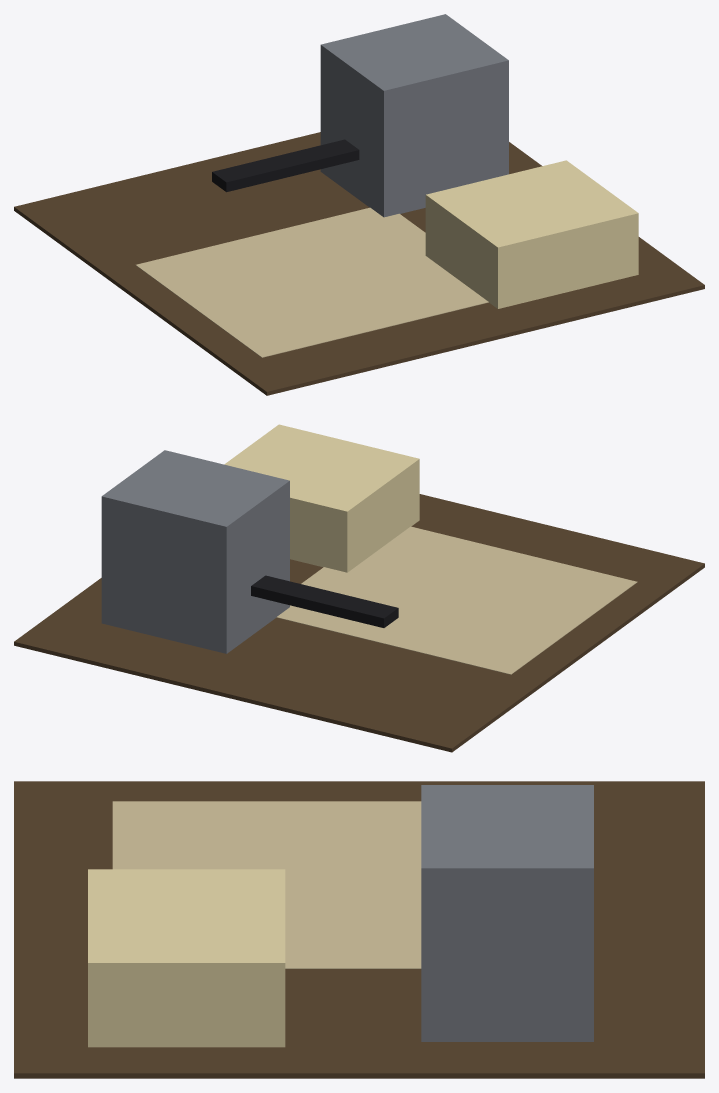
Rendered from silica_quarry.glb.
3 renders of one model, top to bottom at view 1: azimuth 30°, elevation 25°; view 2: azimuth 150°, elevation 25°; view 3: azimuth 270°, elevation 25°, orthographic. The views are drawn at different scales.
Parts seen in each view (by area): view 1: Pad, Crusher, Pit, SandPile, Conveyor; view 2: Pad, Crusher, Pit, SandPile, Conveyor; view 3: Pad, Crusher, SandPile, Pit.
Boxes of the visible parts, x1,y1,x2,y2 form: Pad: (14, 132, 704, 395); Crusher: (320, 14, 508, 217); Pit: (136, 207, 488, 357); SandPile: (425, 160, 638, 308); Conveyor: (212, 139, 359, 192); Pad: (14, 494, 704, 752); Crusher: (101, 450, 289, 653); Pit: (276, 526, 637, 674); SandPile: (224, 424, 419, 572); Conveyor: (251, 575, 398, 627); Pad: (14, 781, 704, 1078); Crusher: (421, 785, 593, 1041); SandPile: (88, 869, 285, 1047); Pit: (112, 801, 421, 968).
Size of the model in its own units: 2.8 by 0.803 by 2.8.
